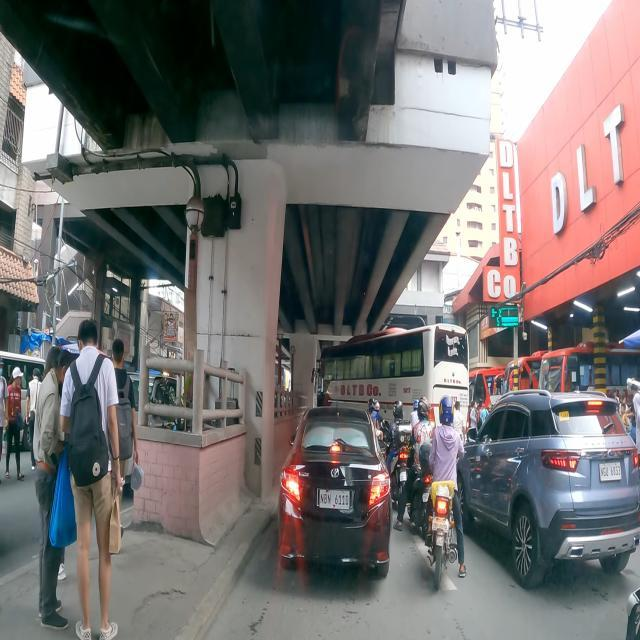bus: (310, 322, 470, 442), (528, 341, 640, 406), (494, 350, 554, 395), (469, 366, 507, 414)
car: (456, 390, 640, 592), (278, 406, 394, 584)
motorcycle: (424, 394, 468, 592), (392, 394, 433, 538), (383, 398, 412, 512), (366, 396, 383, 442)
